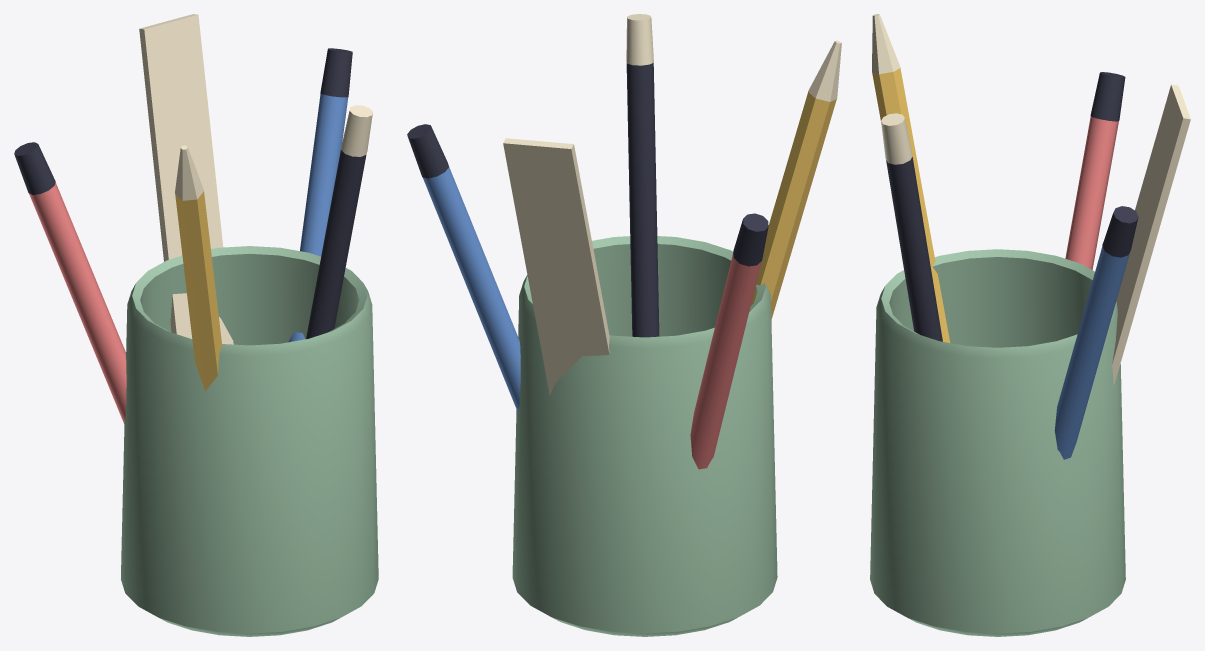
Rendered from pen_cup.glb.
3 renders of one model, left to right at view 1: azimuth 30°, elevation 25°; view 2: azimuth 150°, elevation 25°; view 3: azimuth 270°, elevation 25°, orthographic. The views are drawn at different scales.
Parts seen in each view (by area): view 1: cup, cream, charcoal, pen_red, pencil, pen_blue; view 2: cup, cream, charcoal, pen_blue, pen_red, pencil; view 3: cup, cream, charcoal, pen_blue, pen_red, pencil.
Boxes of the visible parts, x1=… form: cup: x1=121, y1=246, x2=378, y2=636; cream: x1=139, y1=14, x2=372, y2=344; charcoal: x1=14, y1=48, x2=366, y2=339; pen_red: x1=29, y1=182, x2=126, y2=423; pencil: x1=175, y1=191, x2=221, y2=391; pen_blue: x1=288, y1=94, x2=348, y2=342; cup: x1=512, y1=236, x2=777, y2=636; cream: x1=503, y1=14, x2=841, y2=395; charcoal: x1=407, y1=63, x2=768, y2=337; pen_blue: x1=422, y1=167, x2=520, y2=412; pen_red: x1=690, y1=253, x2=761, y2=469; pencil: x1=750, y1=92, x2=836, y2=319; cup: x1=870, y1=249, x2=1125, y2=636; cream: x1=872, y1=14, x2=1190, y2=386; charcoal: x1=886, y1=72, x2=1138, y2=341; pen_blue: x1=1054, y1=246, x2=1129, y2=459; pen_red: x1=1065, y1=116, x2=1118, y2=269; pencil: x1=872, y1=68, x2=950, y2=342.
Bounding box in the file's own units: 0.1224 × 0.1769 × 0.1003.
